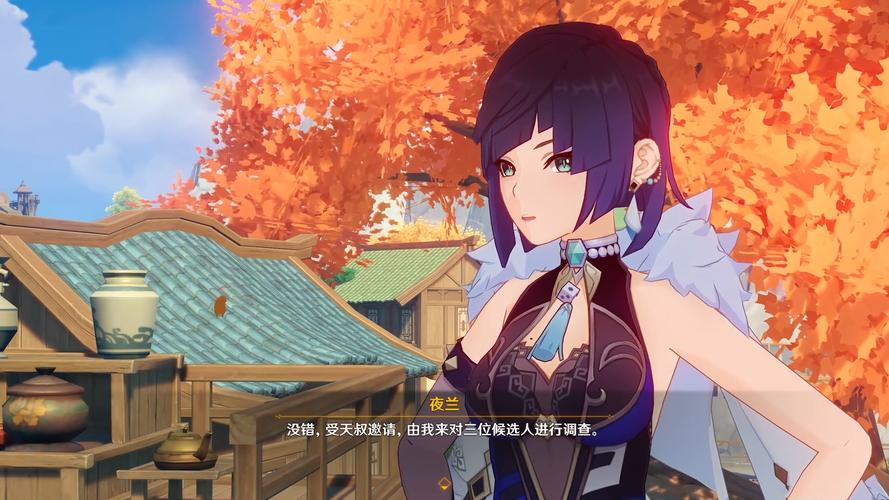夜兰: (394, 25, 874, 500)
